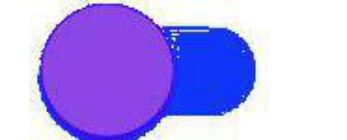Switch: (1, 1, 346, 139)
